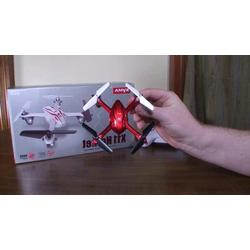drone: (79, 81, 161, 156), (14, 93, 96, 149)
